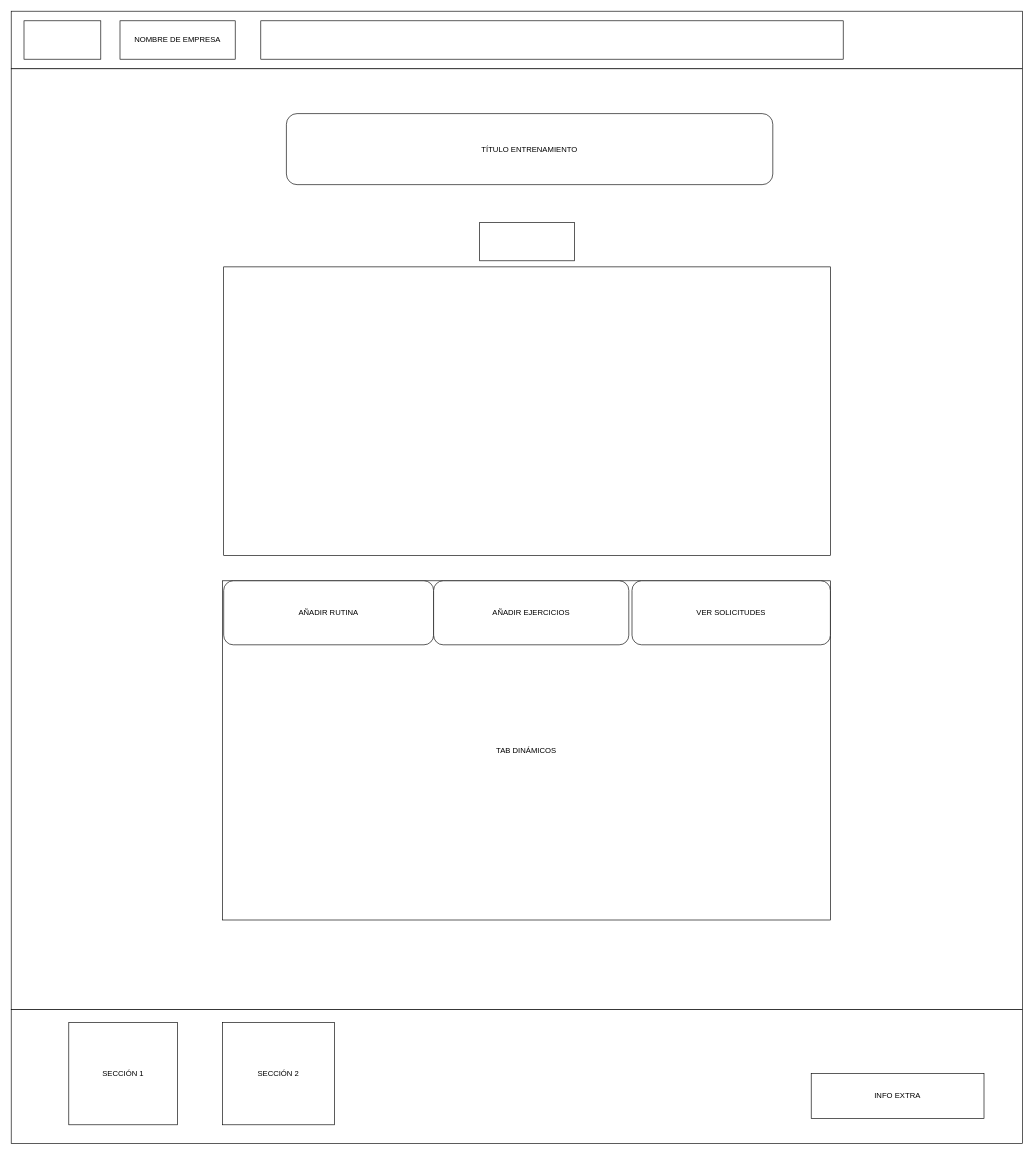
This 1034x1155 diagram has some shape labels left out. The centre of each missing label's shape, as x and y in pixels:
FILTRO: the point at 526,241
LOGO: the point at 62,39
MENU: the point at 551,39
RUTINAS: the point at 526,411
